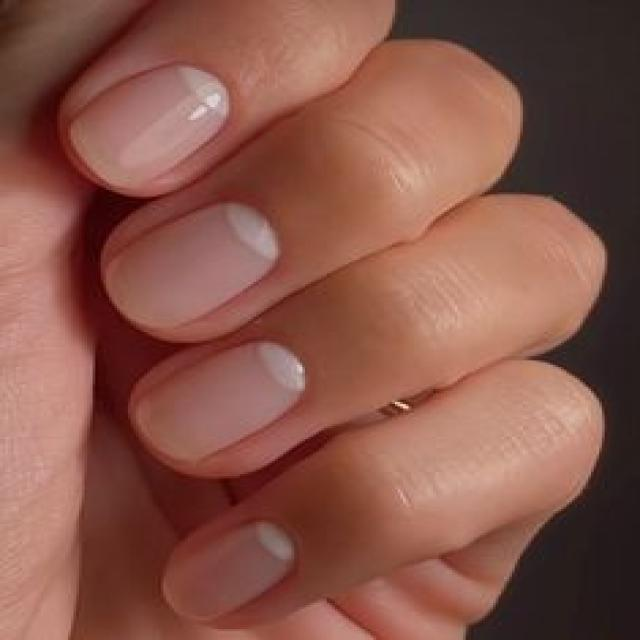Fingernail: (106, 200, 279, 328), (136, 340, 308, 463), (72, 64, 232, 190), (162, 520, 297, 621)
